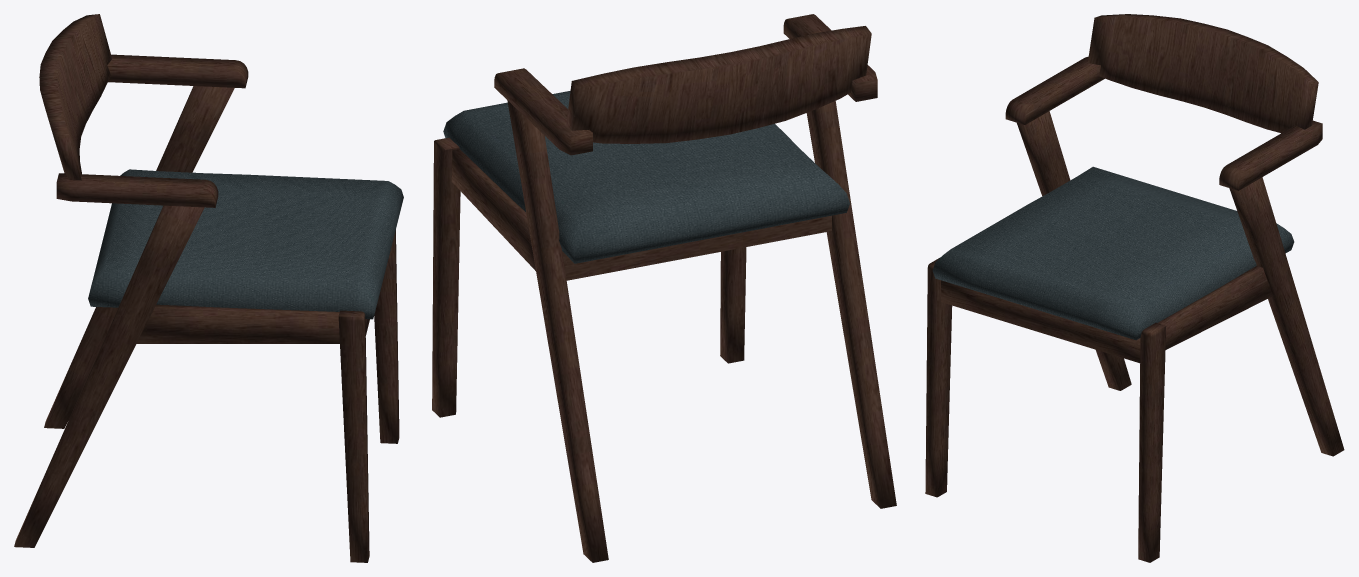
The model's file is chair-arm-cushion.glb.
3 renders of one model, left to right at view 1: azimuth 30°, elevation 25°; view 2: azimuth 150°, elevation 25°; view 3: azimuth 270°, elevation 25°, orthographic. The views are drawn at different scales.
Parts seen in each view (by area): view 1: Chair Cushion_Low, Left Back Leg_Low, Chair Back_Low, Left Side Rail_Low, Right Back Leg_Low, Left Font Leg_Low, Left Arm Rest_Low, Right Arm Rest_Low, Right Front Leg_Low; view 2: Chair Cushion_Low, Chair Back_Low, Right Back Leg_Low, Left Back Leg_Low, Right Front Leg_Low, Back Side Rail_Low, Right Arm Rest_Low, Right Side Rail_Low, Left Font Leg_Low, Left Arm Rest_Low; view 3: Chair Cushion_Low, Chair Back_Low, Right Back Leg_Low, Right Front Leg_Low, Left Font Leg_Low, Front Side Rail_Low, Right Side Rail_Low, Left Back Leg_Low, Right Arm Rest_Low, Left Arm Rest_Low.
Part boxes in pixels (x1,y1,x2,y2): Chair Cushion_Low: (88,169,403,319); Left Back Leg_Low: (14,205,204,547); Chair Back_Low: (39,14,111,180); Left Side Rail_Low: (136,304,339,343); Right Back Leg_Low: (44,86,234,428); Left Font Leg_Low: (338,310,369,562); Left Arm Rest_Low: (56,173,218,207); Right Arm Rest_Low: (107,54,248,88); Right Front Leg_Low: (374,230,399,443); Chair Cushion_Low: (443,90,849,263); Chair Back_Low: (566,26,871,143); Right Back Leg_Low: (507,100,608,562); Left Back Leg_Low: (806,101,896,508); Right Front Leg_Low: (432,137,460,417); Back Side Rail_Low: (562,215,831,280); Right Arm Rest_Low: (494,68,592,155); Right Side Rail_Low: (451,149,535,270); Left Font Leg_Low: (720,247,746,363); Left Arm Rest_Low: (783,14,877,101); Chair Cushion_Low: (932,166,1294,340); Chair Back_Low: (1087,14,1318,133); Right Back Leg_Low: (1229,177,1344,456); Right Front Leg_Low: (1138,322,1166,562); Left Font Leg_Low: (925,258,952,497); Front Side Rail_Low: (941,280,1140,363); Right Side Rail_Low: (1158,266,1272,349); Left Back Leg_Low: (1017,111,1131,390); Right Arm Rest_Low: (1219,120,1322,190); Left Arm Rest_Low: (1005,56,1104,124).
Bounding box in the file's own units: 0.8069 × 0.8111 × 0.7852.
1 material, 1 textured.
